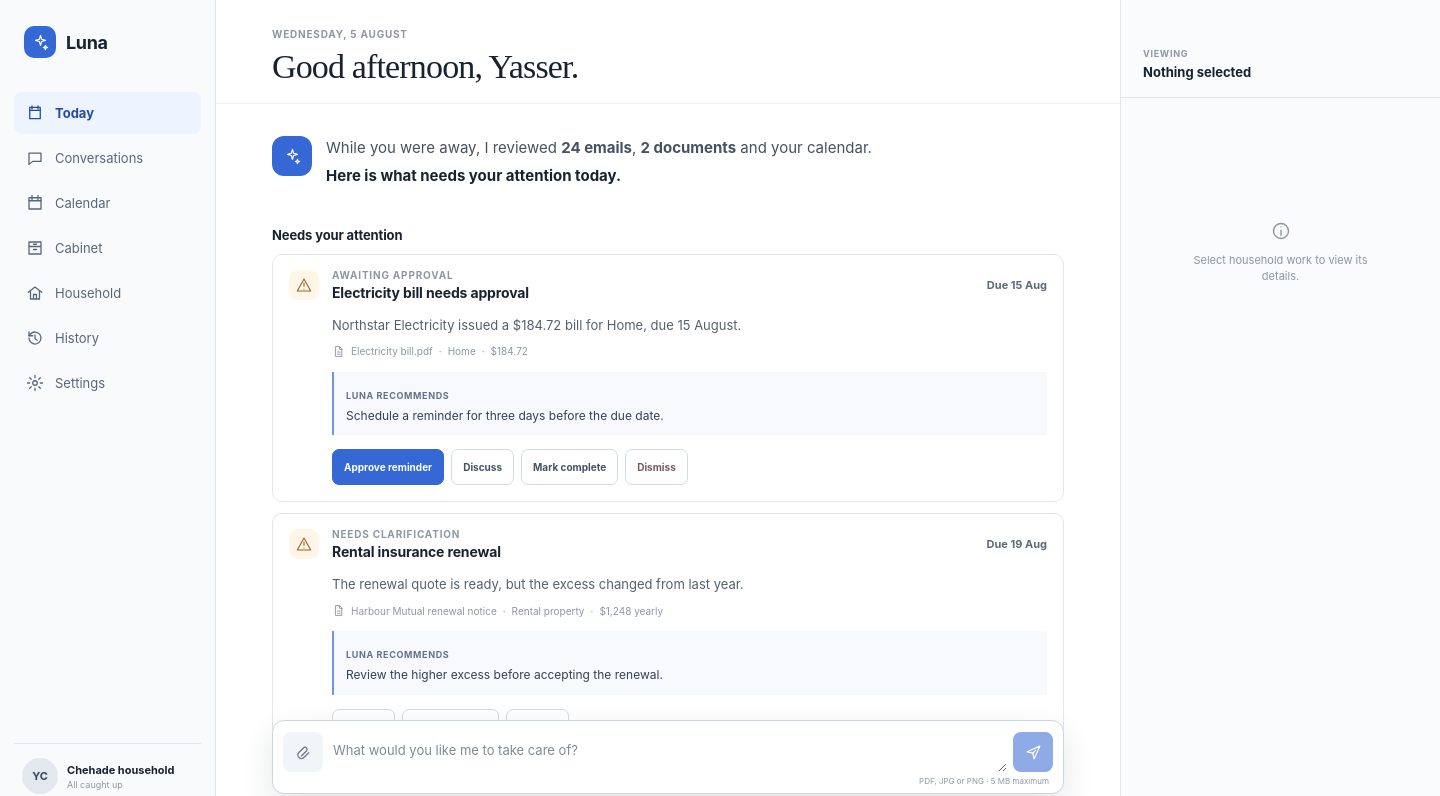
production Today route › completes selected work from an existing conversational direction without resetting context
Click the button with aria-label "Open Electricity bill needs approval".
click(393, 274)  # box [273, 254, 1063, 314]
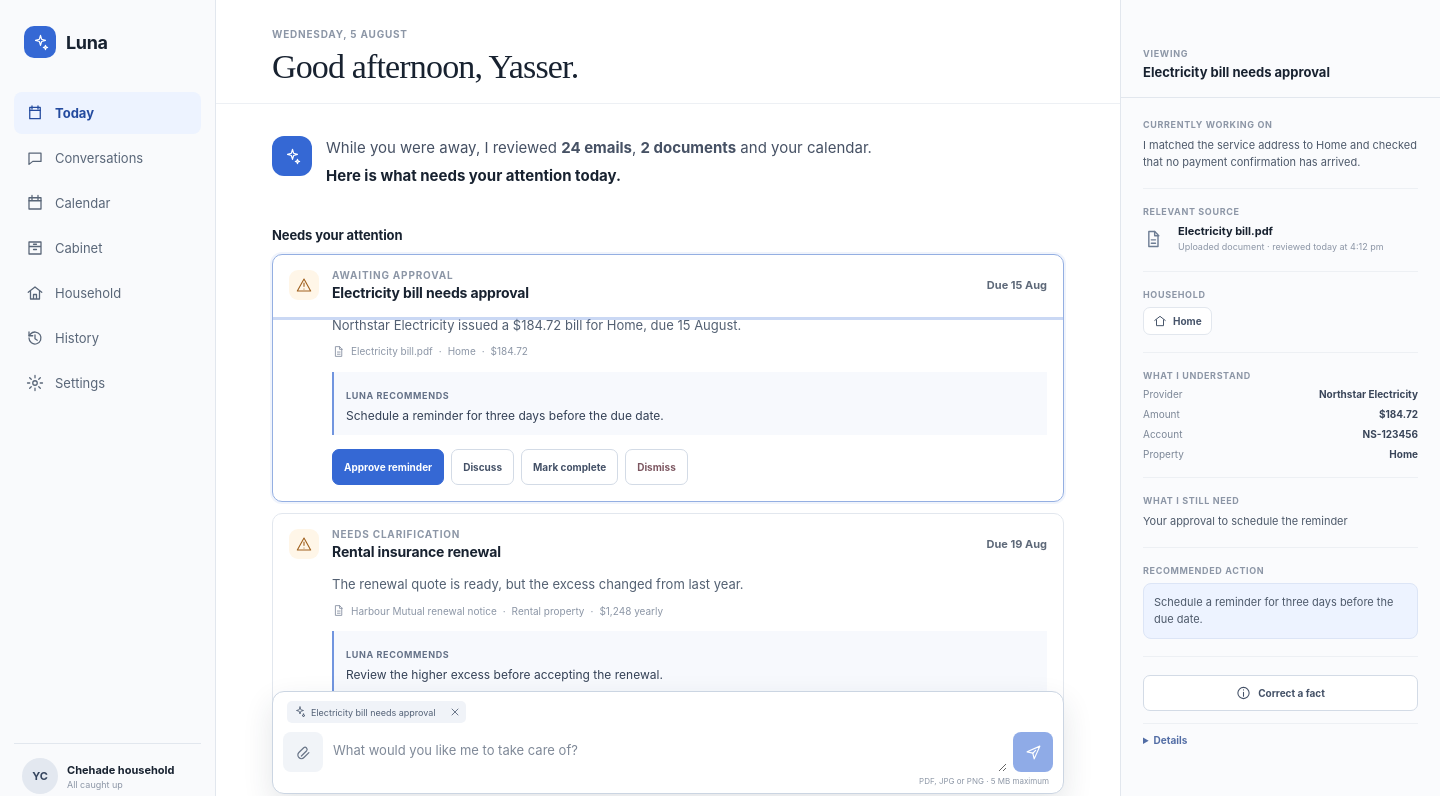
Type "I already paid it." into the text box named "Instruction for Luna".
click(668, 751); type("I already paid it.")  # box [329, 730, 1007, 772]
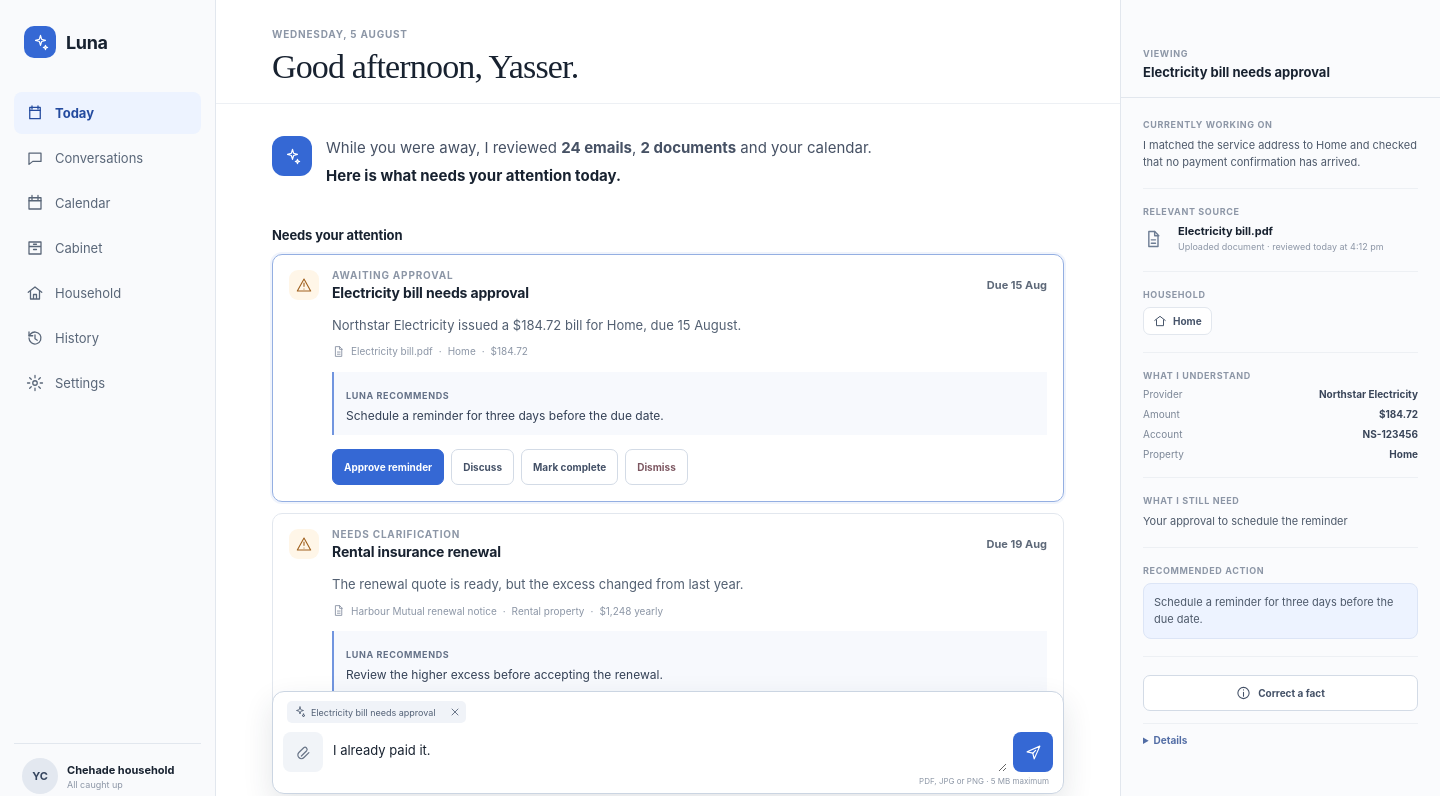
Click the button named "Send instruction".
click(1033, 752)  # box [1013, 732, 1053, 772]
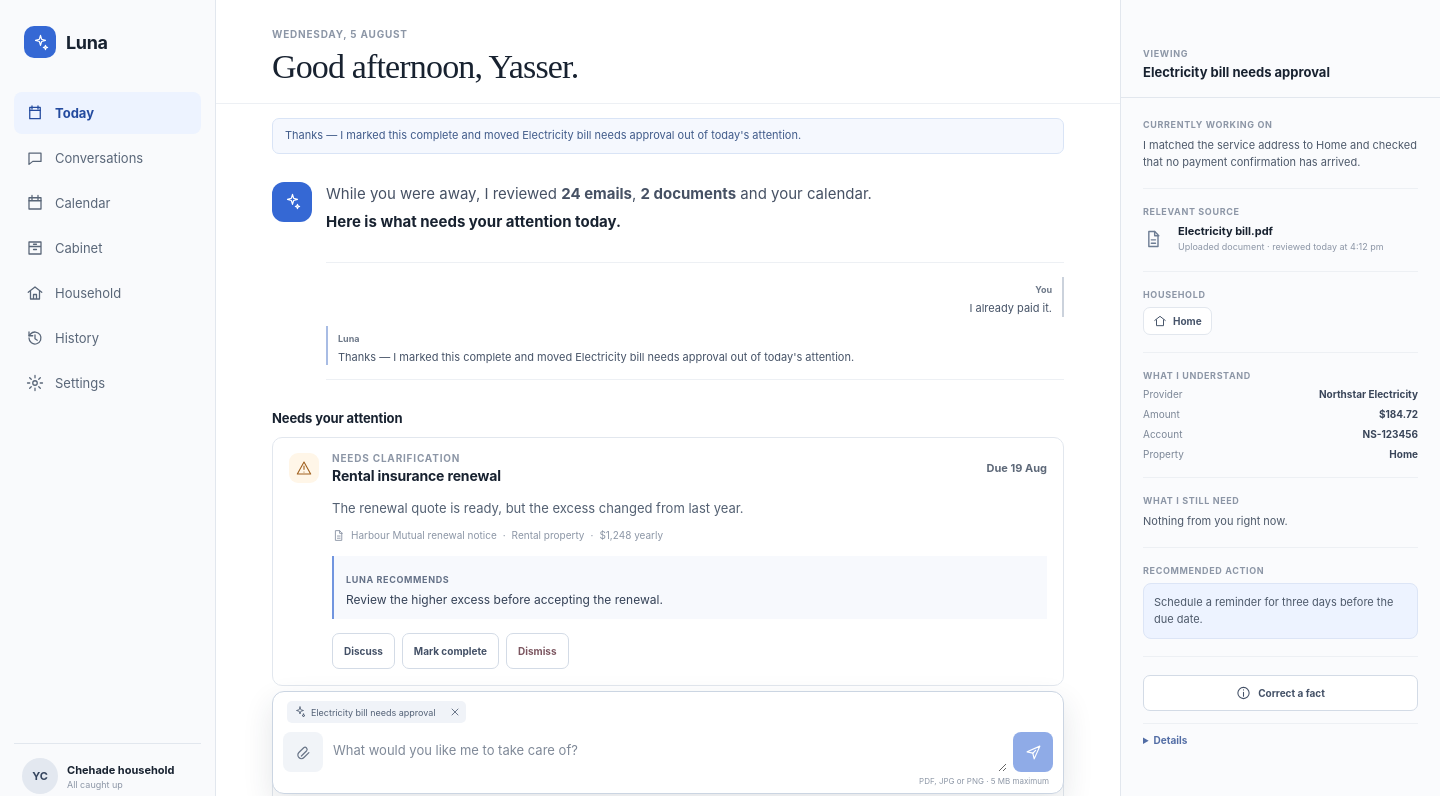
Result: the text "Electricity bill needs approval" is shown at [1143, 64, 1330, 80]
Result: the message shows "marked this complete" at [285, 128, 801, 142]
Result: the text "I already paid it." is shown once at [969, 300, 1052, 317]
